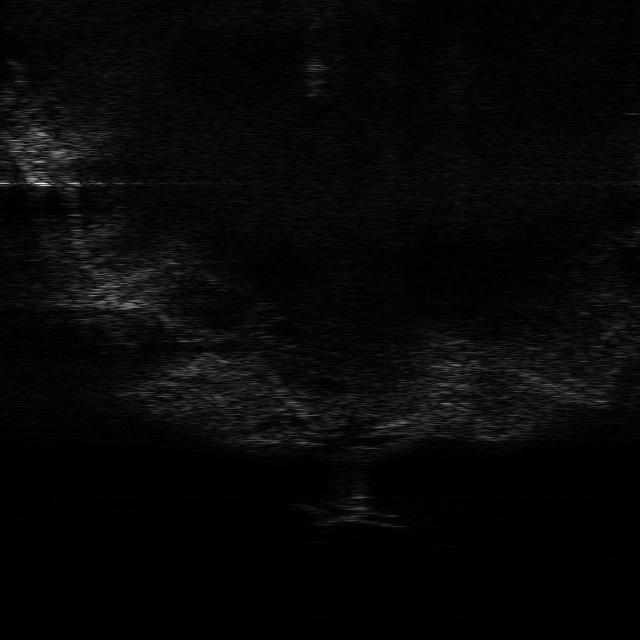plane: (294, 499, 402, 529)
